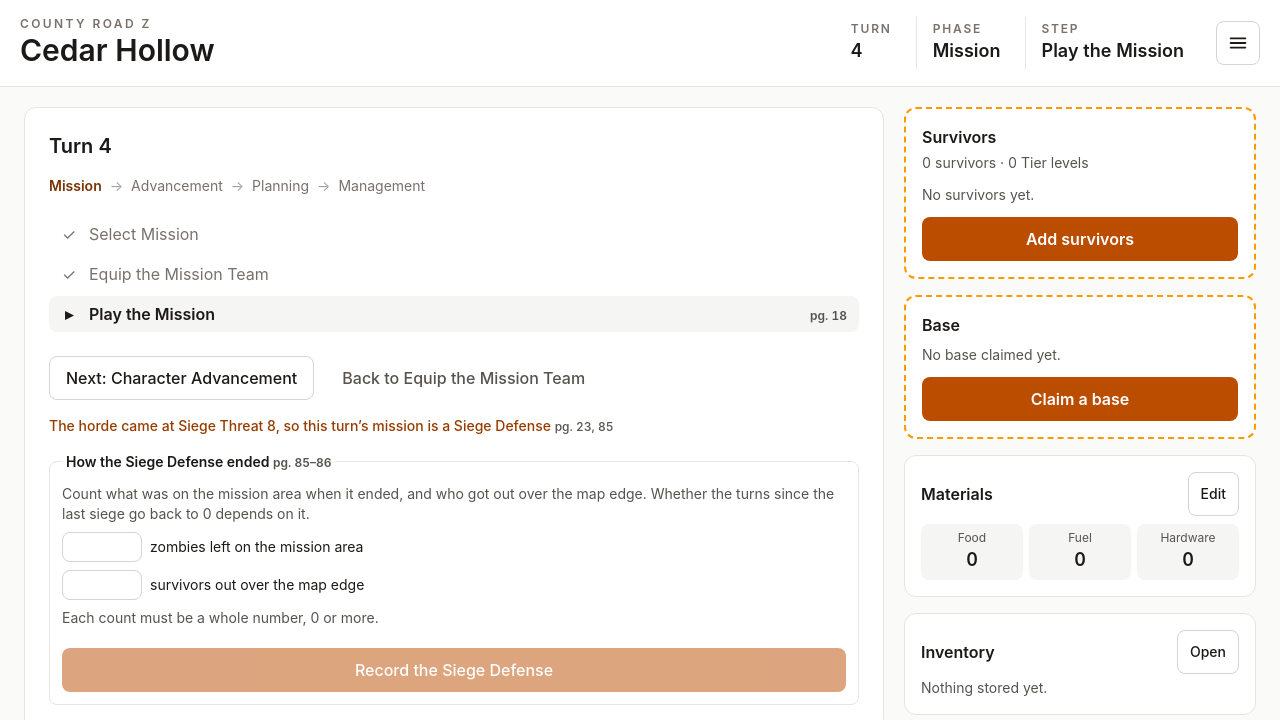
Scenario: the outcome of a Siege Defense (pg. 86) › names an overrun base before it is recorded
Step 1. Type "3" into the number field labelled "zombies left on the mission area" → (102, 546), box [62,532,142,562]
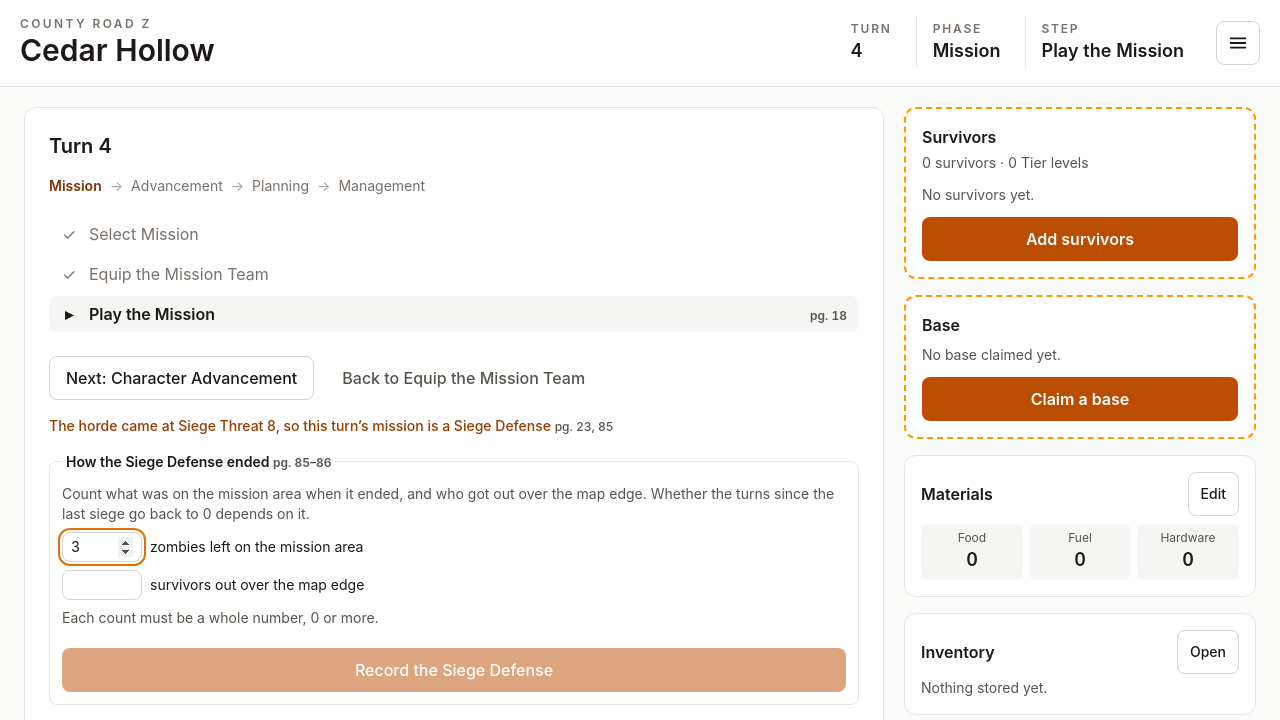
Step 2. Type "1" into the number field labelled "survivors out over the map edge" → (102, 584), box [62,570,142,600]
(page scrolled)
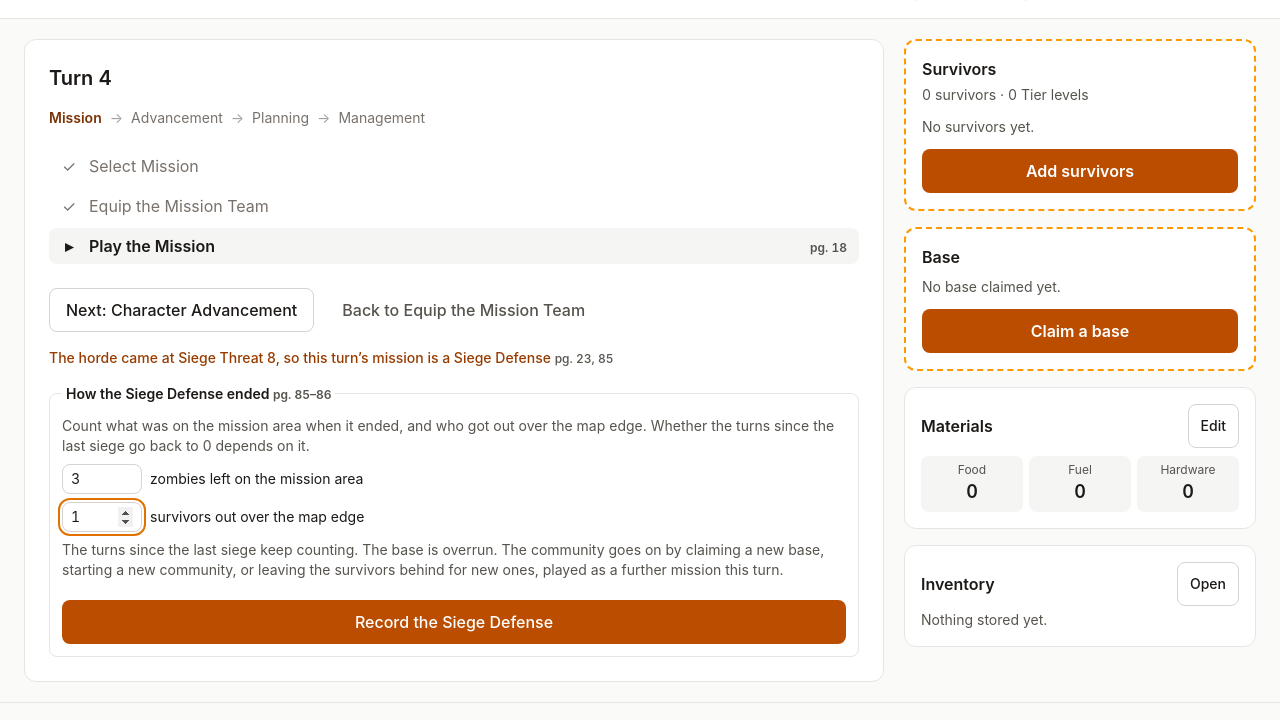
Expected: the text "keep counting" is shown, [62,540,824,578]
Expected: the text "The base is overrun" is shown, [62,540,824,578]
